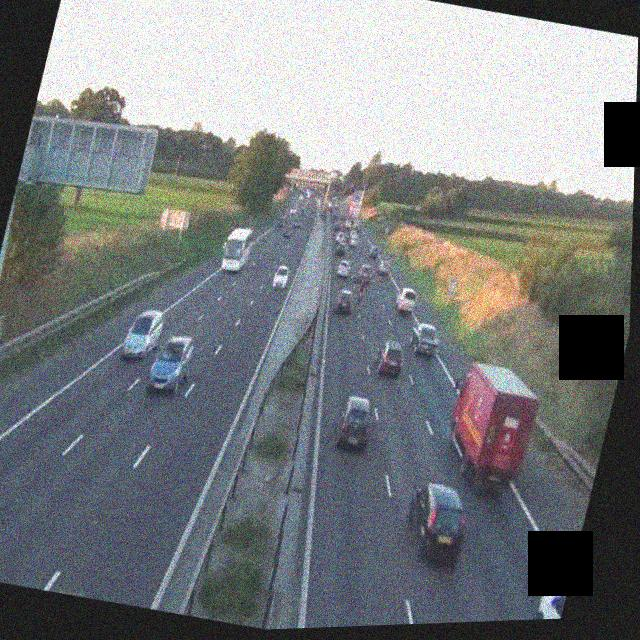bus: (219, 223, 255, 274)
car: (397, 478, 475, 568), (145, 329, 197, 398), (331, 392, 377, 453), (121, 304, 167, 364), (523, 578, 568, 620), (370, 338, 407, 379), (408, 320, 442, 359), (394, 285, 418, 315), (334, 288, 356, 315), (271, 265, 291, 292), (355, 261, 374, 286), (336, 258, 351, 277), (376, 257, 392, 274), (334, 239, 347, 255), (281, 224, 293, 240), (349, 235, 360, 250), (273, 219, 284, 232)
truck: (436, 358, 545, 500)
